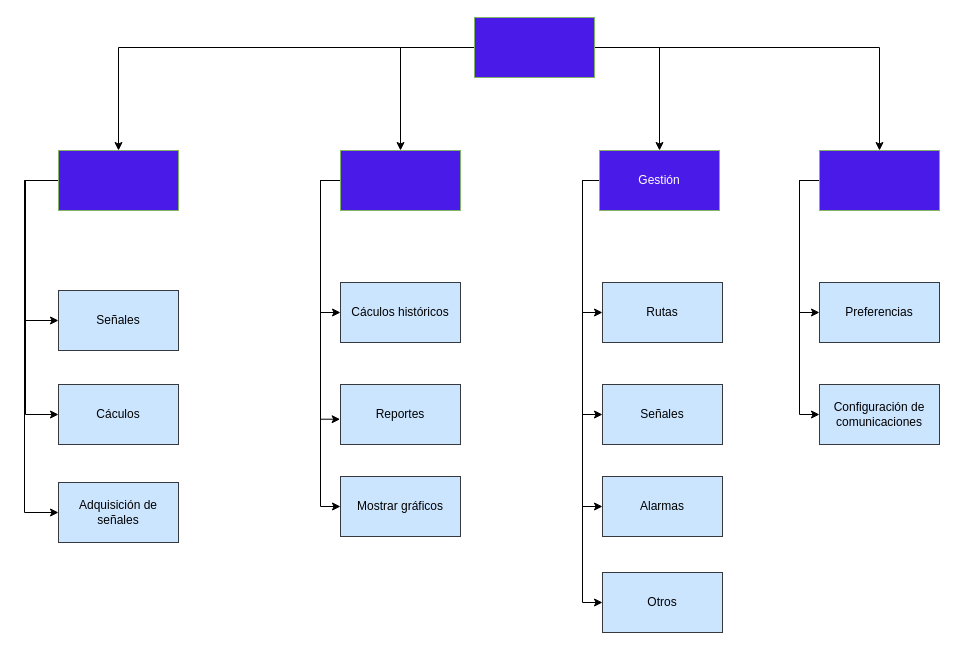
Image size: 957x650. Some labels were removed from this diagram. The shapes that lost their labels are listed below. From the top down, each one's centre as x and y in pixels, then its label:
At point 534,47: "ANAVIB Versión 1.0.0".
At point 118,180: "Monitoreo".
At point 400,180: "Análisis".
At point 879,180: "Configuración".
